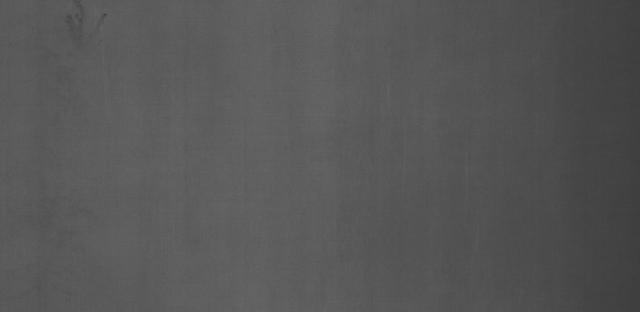water_spot: (57, 6, 117, 59)
